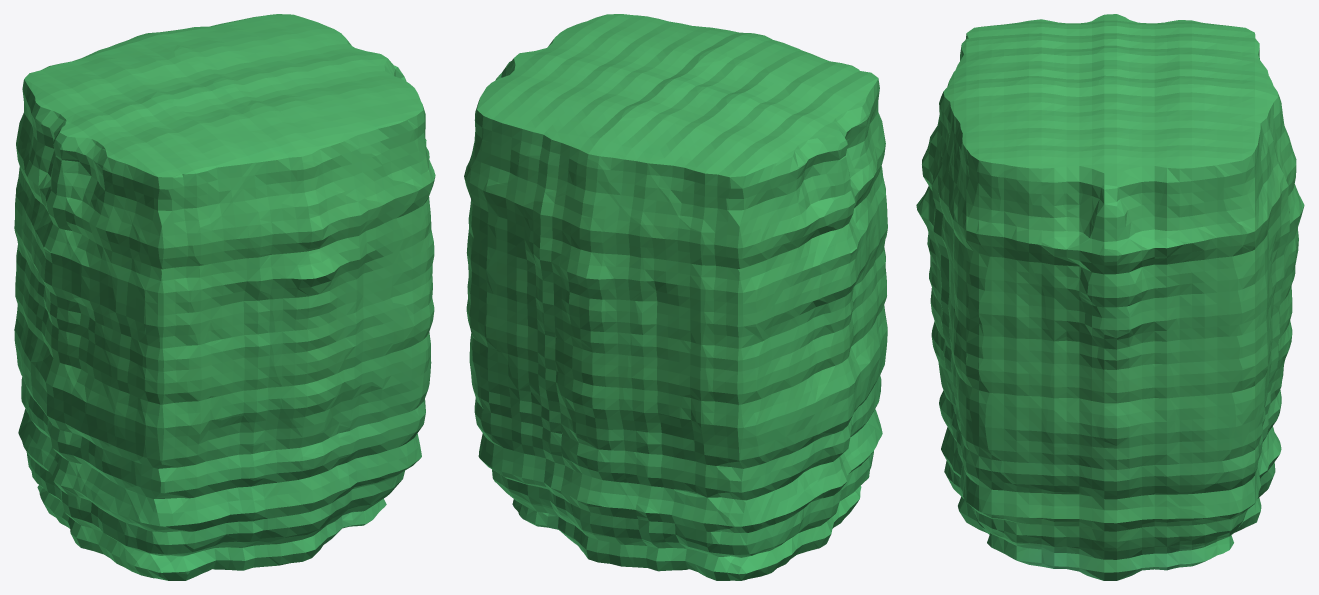
The picture shows the model from 3 angles, left to right: view 1: azimuth 30°, elevation 25°; view 2: azimuth 150°, elevation 25°; view 3: azimuth 270°, elevation 25°; orthographic projection.
Parts seen in each view (by area): view 1: geometry_0; view 2: geometry_0; view 3: geometry_0.
Part boxes in pixels (x1,y1,x2,y2): geometry_0: [14, 14, 435, 580]; geometry_0: [464, 14, 887, 580]; geometry_0: [916, 14, 1304, 580].
Bounding box in the file's own units: 1.46 × 1.67 × 1.32.
